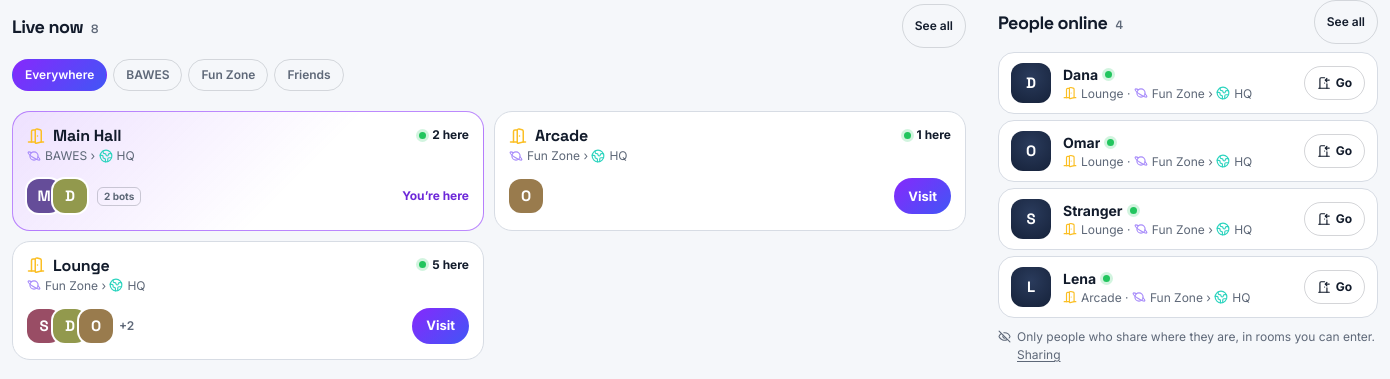
Test: Live now › Friends chip › shows only the rooms with friends in them, and only friends under People online
Step 1. Click the button "Friends" → (309,74), box [274,58,344,90]
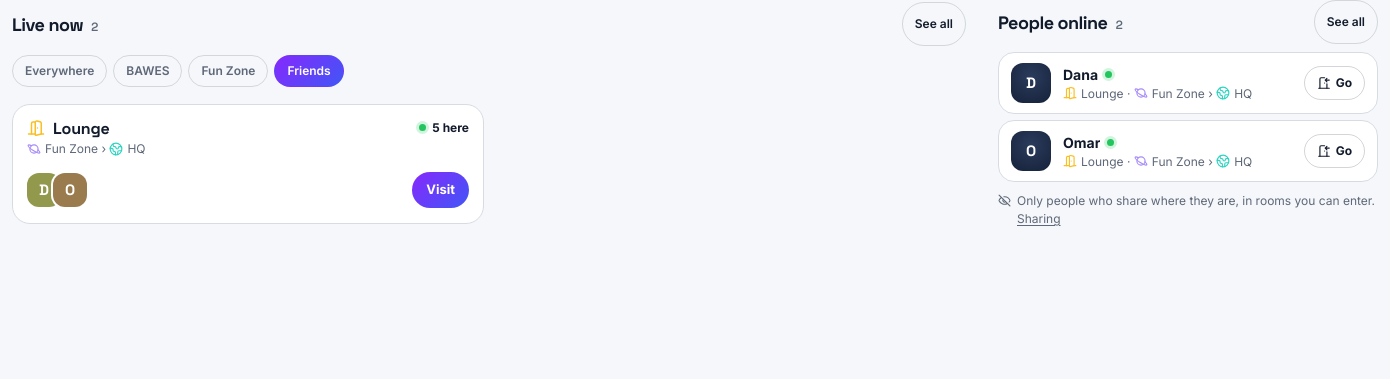
Result: the text "+2" is gone
